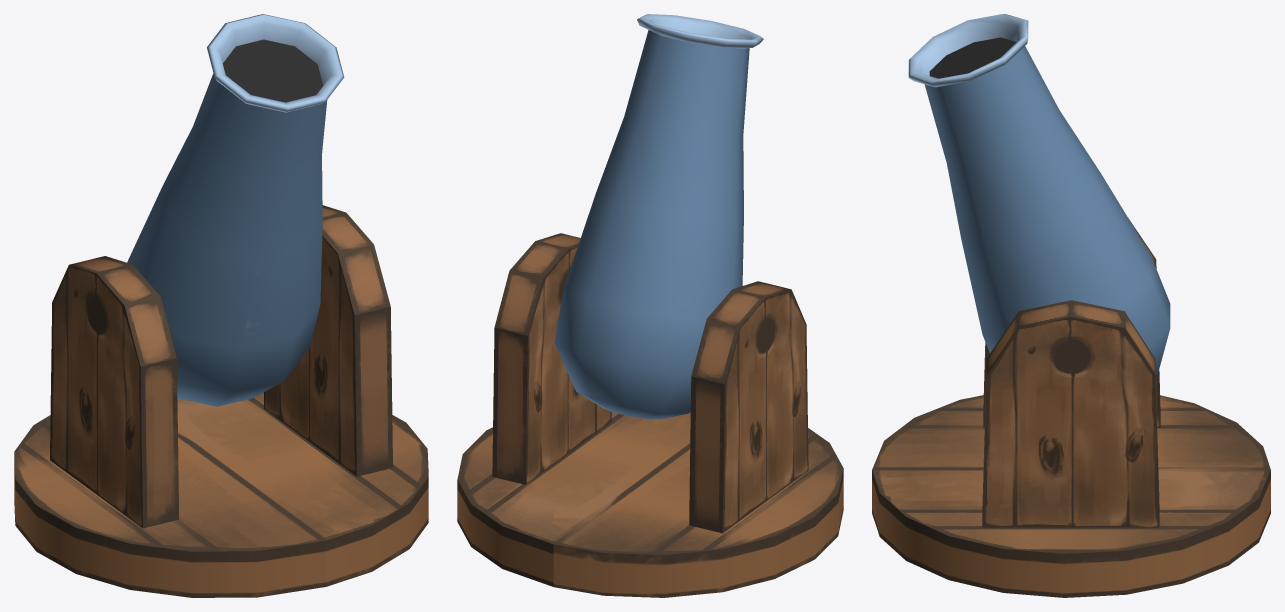
File: cannonblue.fbx
3 renders of one model, left to right at view 1: azimuth 30°, elevation 25°; view 2: azimuth 150°, elevation 25°; view 3: azimuth 270°, elevation 25°, orthographic. The views are drawn at different scales.
Visible parts, largest first — view 1: pCylinder7; view 2: pCylinder7; view 3: pCylinder7.
Boxes of the visible parts, bbox=[...] form: pCylinder7: bbox=[14, 14, 428, 597]; pCylinder7: bbox=[457, 14, 843, 597]; pCylinder7: bbox=[872, 14, 1270, 597].
Size of the model in its own units: 0.8854 by 1.19 by 0.8854.
